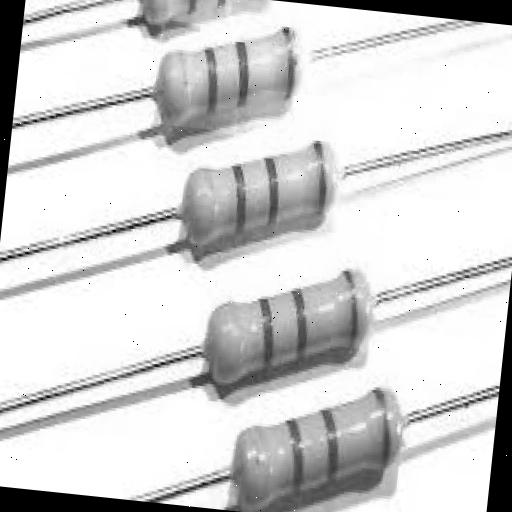RESISTOR: (210, 303, 448, 512), (171, 234, 411, 416), (138, 116, 376, 293), (111, 0, 320, 151)
